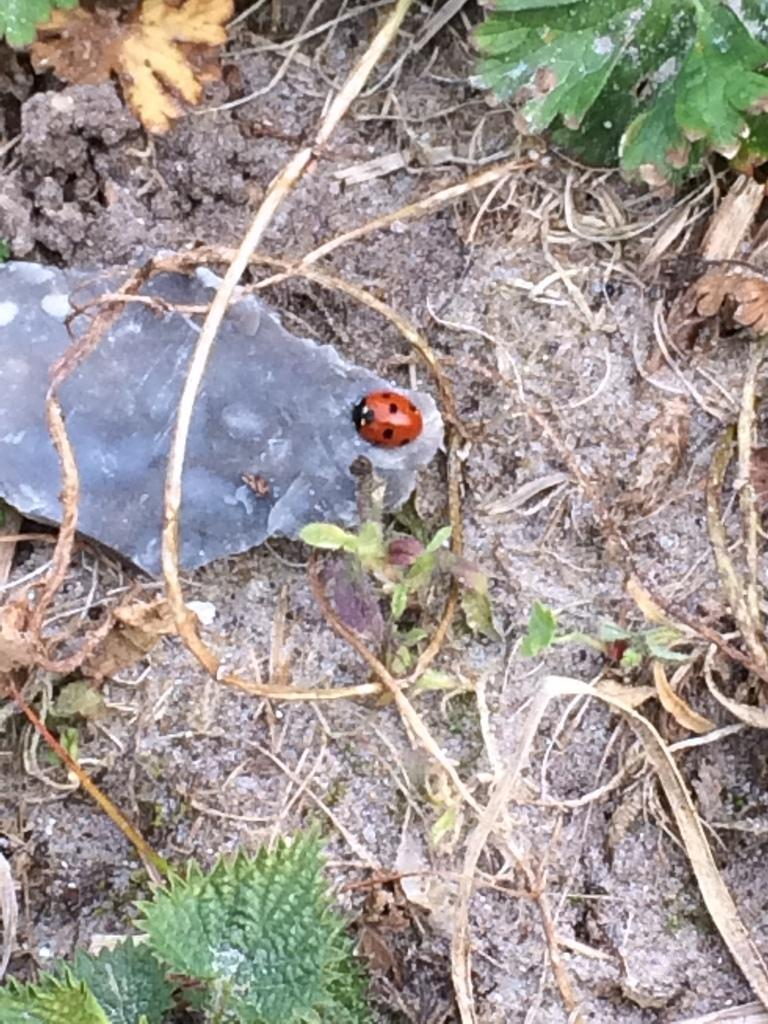ladybug: (350, 391, 424, 450)
